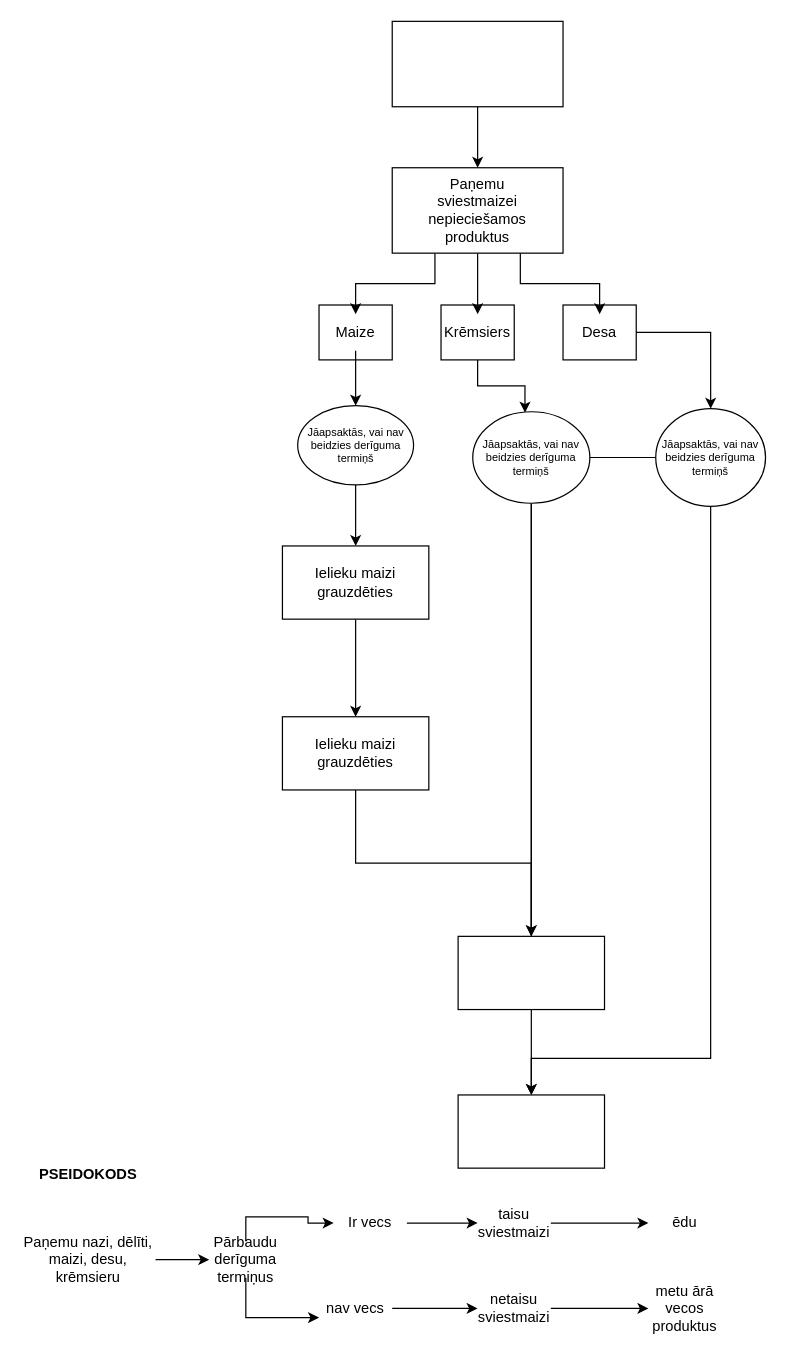
This 787x1355 diagram has some shape labels left out. Here are the shapes that lost their labels. From the top down, the box of each, then its label:
(391, 20, 563, 107): Paņemu galda dēlīti un nazi
(457, 935, 605, 1010): Paņemu nazi un uzsmērēju krēmsieru uz maizes
(457, 1094, 605, 1168): Tad uzlieku virsū desu un sviestmaize ir gatava
